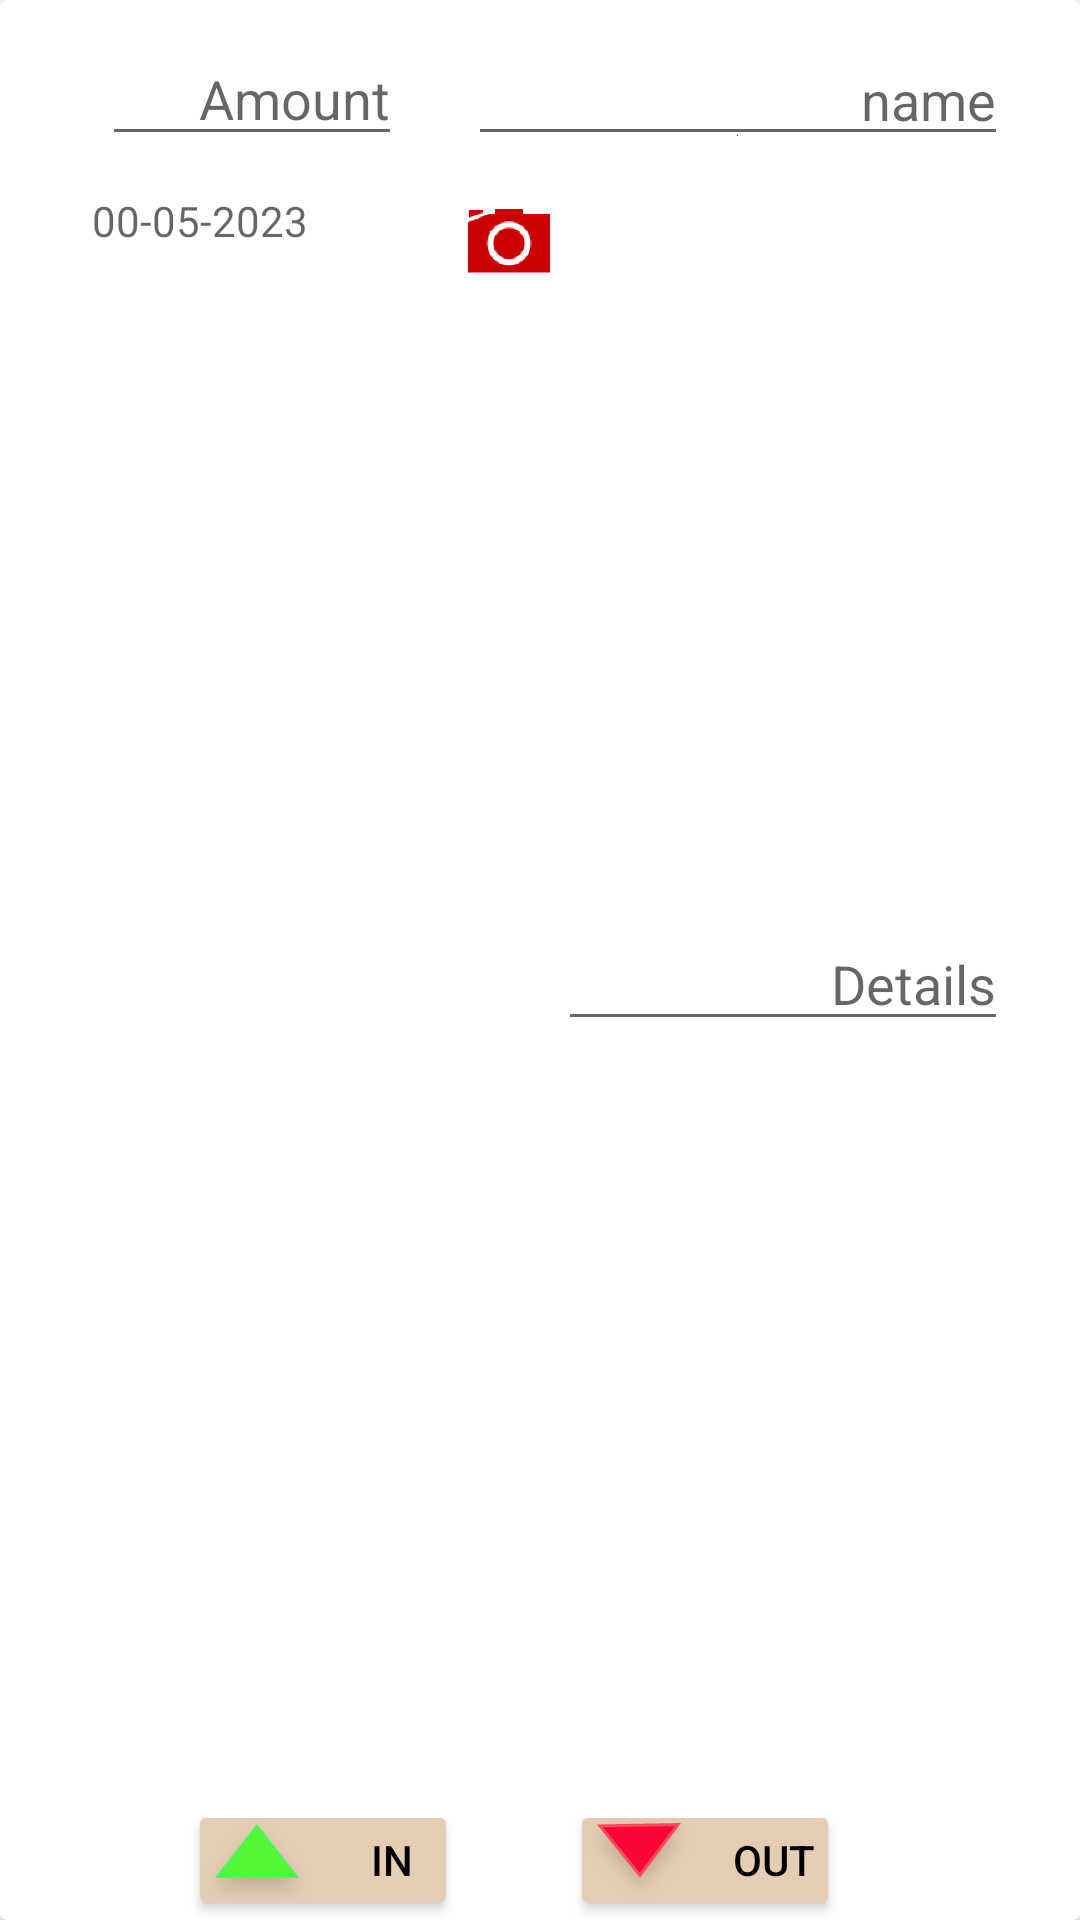

Locate icon controls on the screen. Image size 1080 × 1920, boxes as (x1, y1, x2, y2).
camera: (468, 209, 550, 273)
